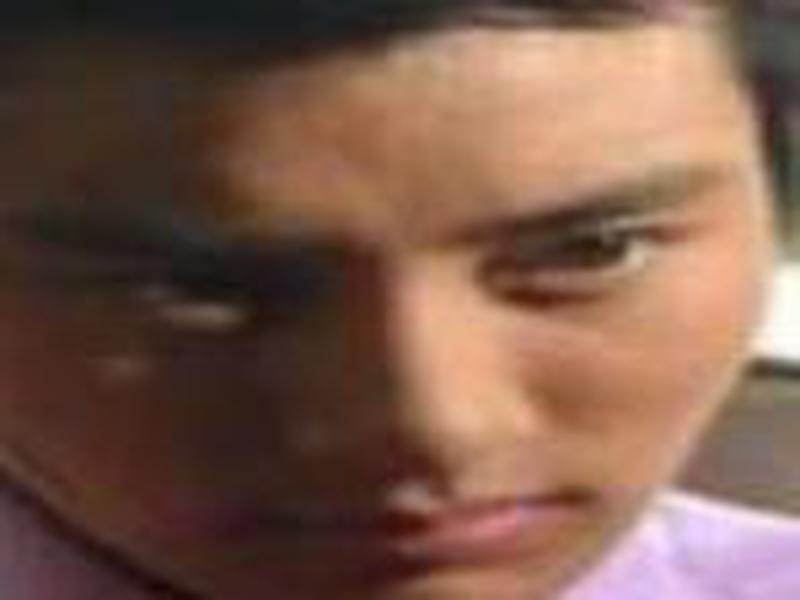without_mask: (4, 31, 767, 600)
